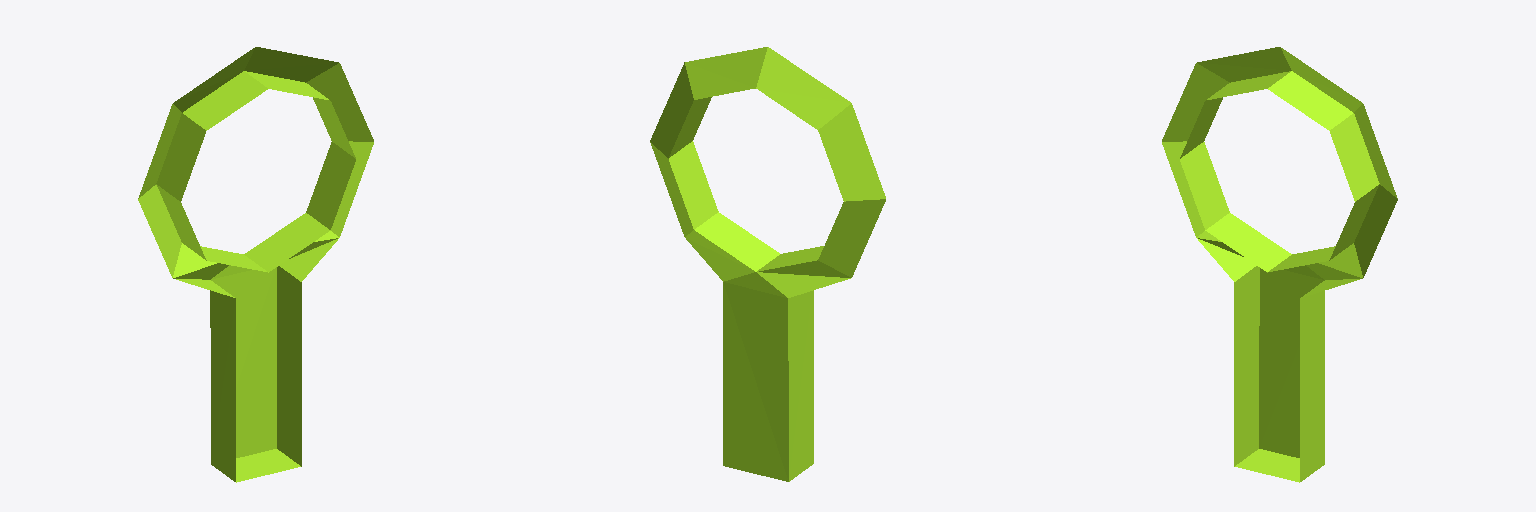
Rendered from pipeStand.obj.
The picture shows the model from 3 angles: view 1: azimuth 30°, elevation 25°; view 2: azimuth 150°, elevation 25°; view 3: azimuth 330°, elevation 25°; orthographic projection.
Visible parts, largest first — view 1: pipeStand; view 2: pipeStand; view 3: pipeStand.
Boxes of the visible parts, x1,y1,x2,y2 form: pipeStand: [138, 47, 373, 482]; pipeStand: [650, 47, 885, 481]; pipeStand: [1162, 47, 1397, 482].
Size of the model in its own units: 5.53 by 9.36 by 1.03.